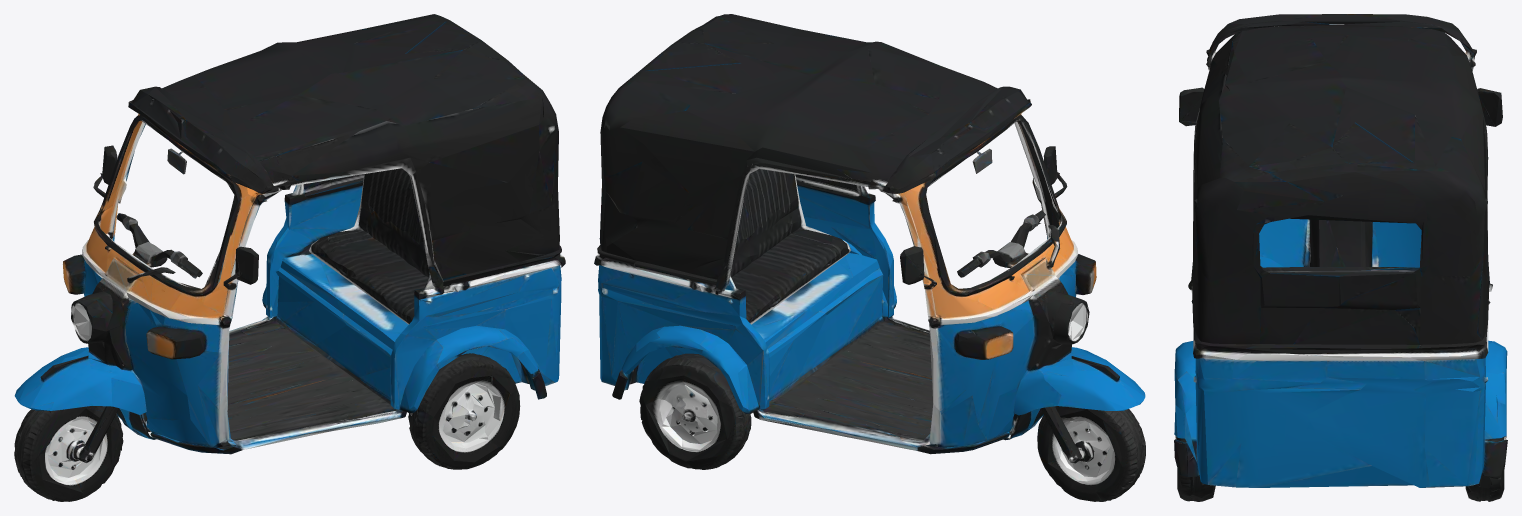
File: tuk.glb
The picture shows the model from 3 angles, left to right: view 1: azimuth 30°, elevation 25°; view 2: azimuth 150°, elevation 25°; view 3: azimuth 270°, elevation 25°; orthographic projection. The views are drawn at different scales.
Parts seen in each view (by area): view 1: output_unwrapped; view 2: output_unwrapped; view 3: output_unwrapped.
Part boxes in pixels (<box>): output_unwrapped: <box>14,14,565,501</box>; output_unwrapped: <box>594,14,1145,501</box>; output_unwrapped: <box>1174,14,1507,501</box>.
Size of the model in its own units: 1.87 by 1.33 by 1.04.
Materials: 1 (1 with a texture image).
